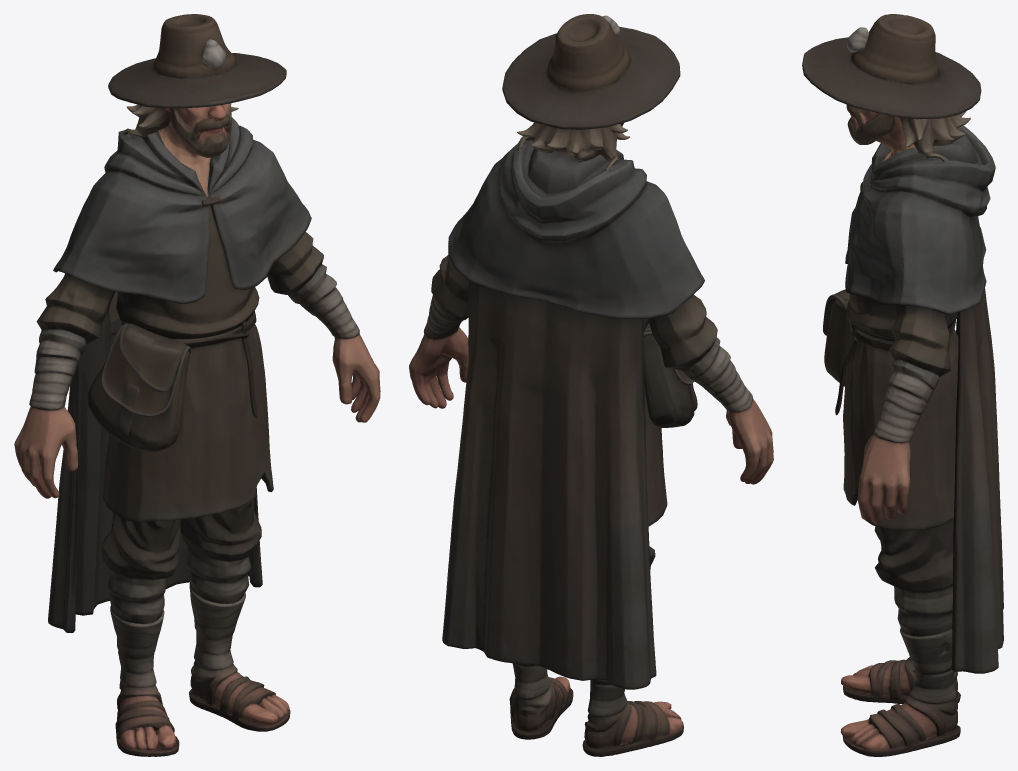
Rendered from pilgrim.glb.
3 renders of one model, left to right at view 1: azimuth 30°, elevation 25°; view 2: azimuth 150°, elevation 25°; view 3: azimuth 270°, elevation 25°, orthographic.
Visible parts, largest first — view 1: world; view 2: world; view 3: world.
Boxes of the visible parts, box(x1,y1,x2,y2) form: world: box(14, 14, 380, 756); world: box(409, 14, 773, 756); world: box(802, 14, 1003, 756).
Bounding box in the file's own units: 0.5221 × 0.9987 × 0.2617.
Materials: 1 (1 with a texture image).
